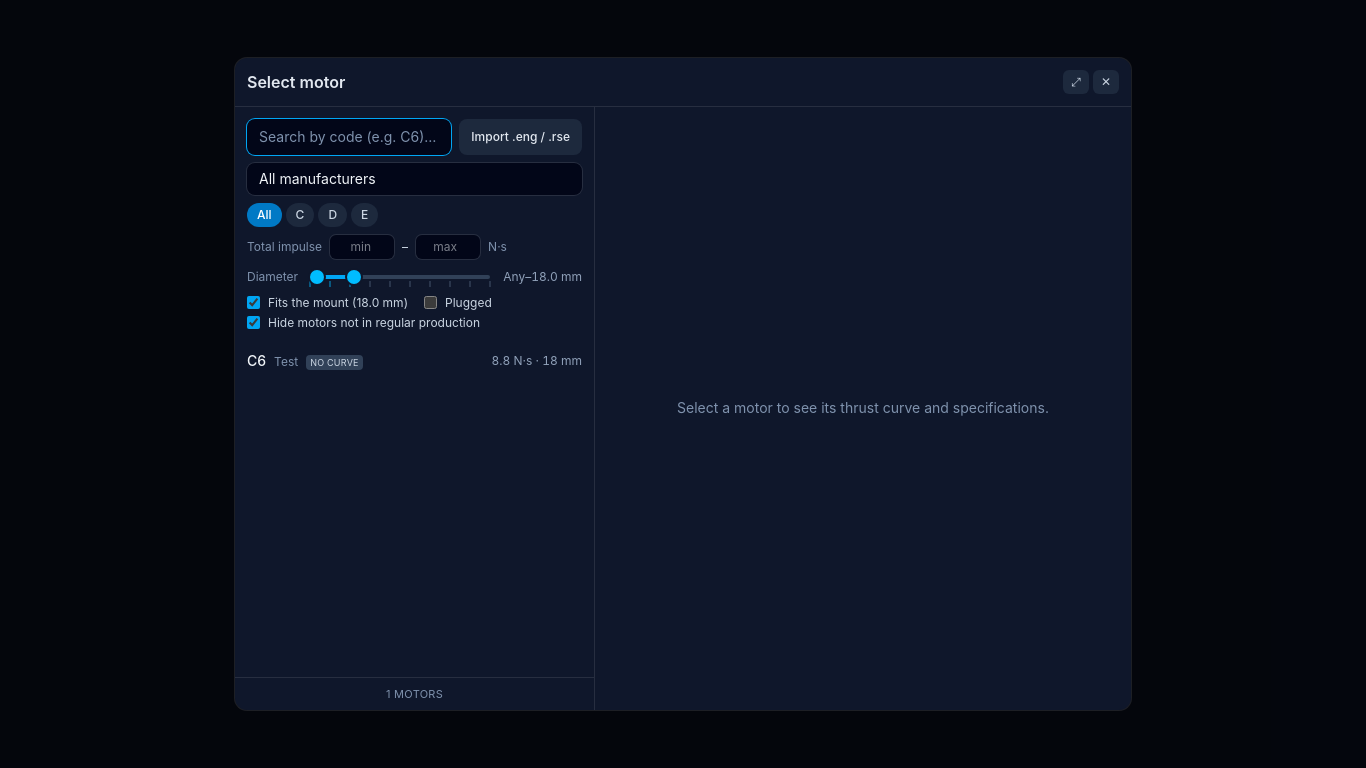
Test: the motor picker filters by what fits the mount › says why the list is empty rather than showing a blank panel
Type "100" into the number field named "Total impulse min" at [362, 247], box [330,235,394,259]
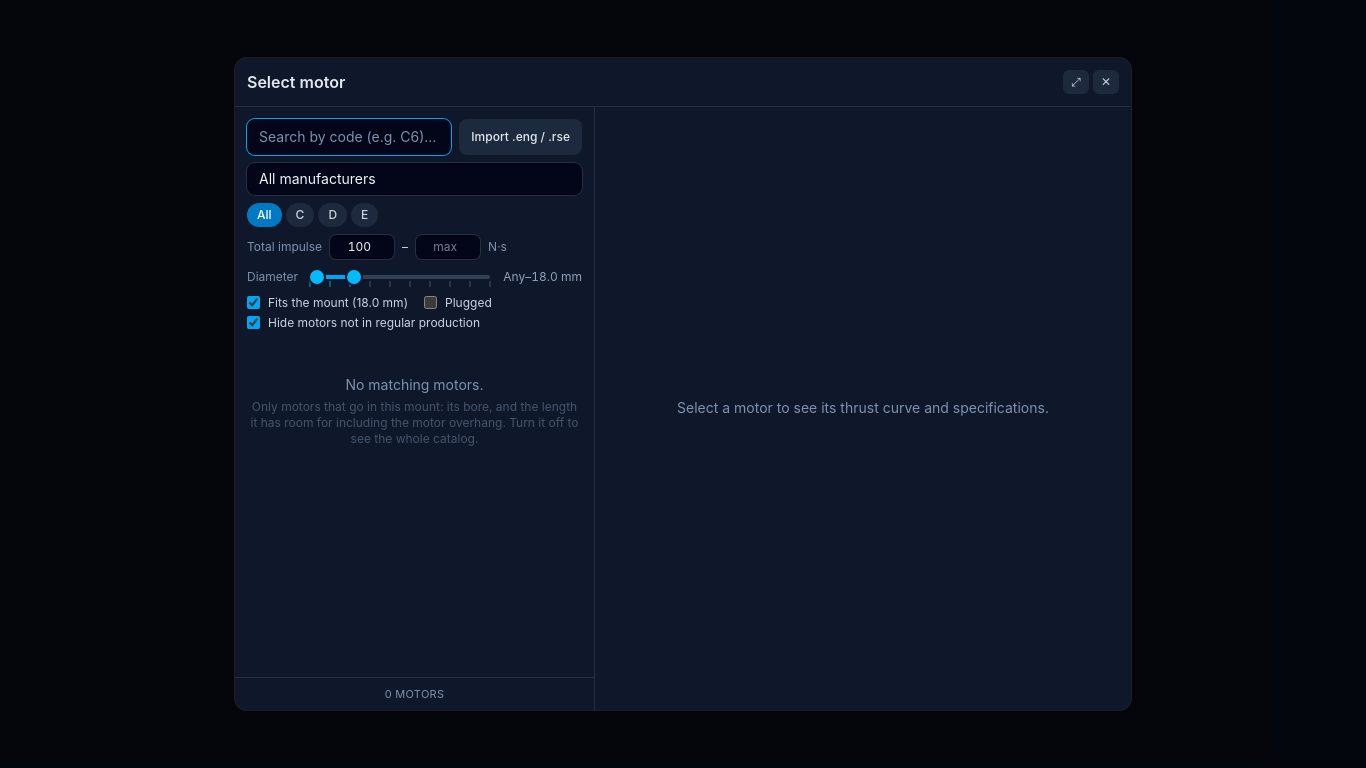
Result: the list item "No matching motors." is shown at [345,376,484,393]
Result: the text "Only motors that go in this mount" is shown at [250,399,579,446]
